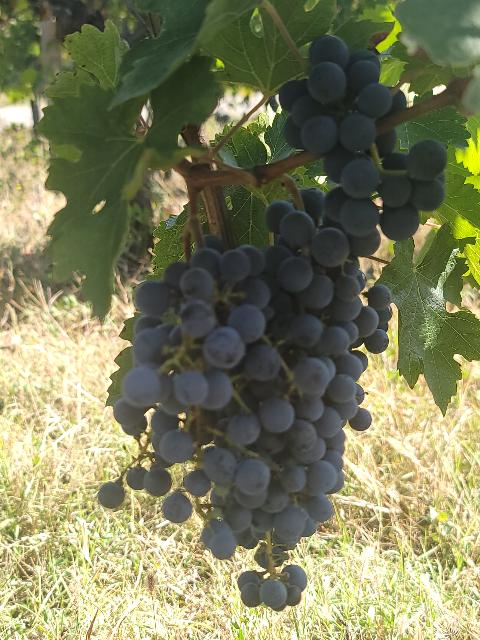grapes: (98, 244, 339, 610), (269, 189, 391, 496), (279, 35, 448, 240)
